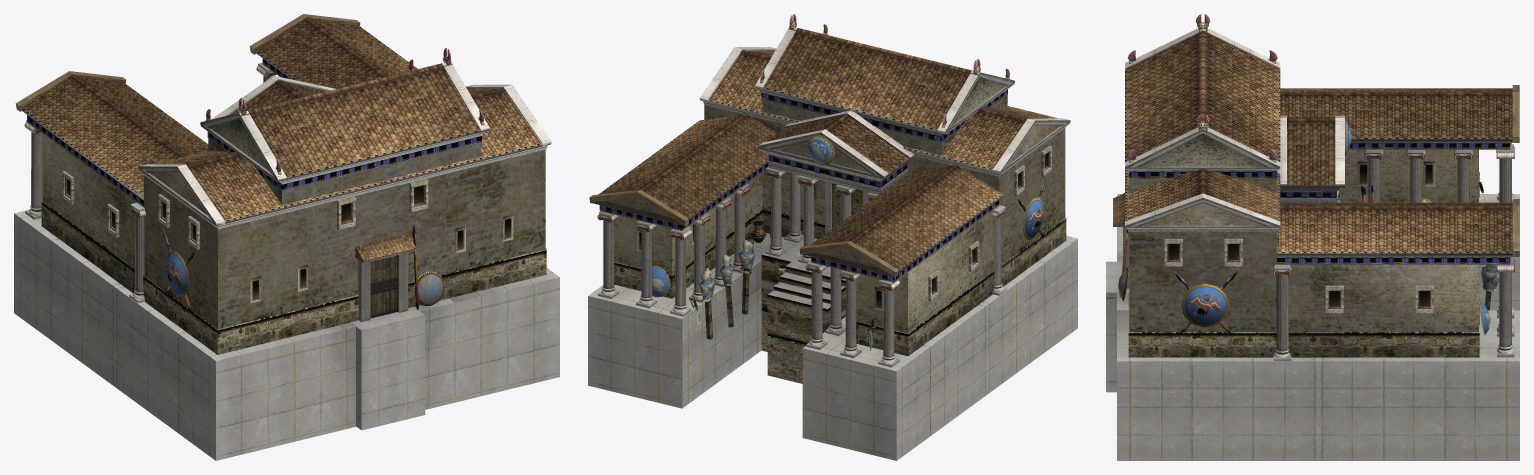
Rendered from barracks.glb.
3 renders of one model, left to right at view 1: azimuth 30°, elevation 25°; view 2: azimuth 150°, elevation 25°; view 3: azimuth 270°, elevation 25°, orthographic. The views are drawn at different scales.
Visible parts, largest first — view 1: barracks_part1, barracks_part4, barracks_part0, barracks_part2, barracks_part3; view 2: barracks_part1, barracks_part4, barracks_part0, barracks_part2, barracks_part3, barracks_part5; view 3: barracks_part1, barracks_part4, barracks_part0, barracks_part2, barracks_part3, barracks_part5.
Boxes of the visible parts, x1,y1,x2,y2 form: barracks_part1: [15, 14, 546, 354]; barracks_part4: [14, 62, 559, 460]; barracks_part0: [20, 17, 551, 299]; barracks_part2: [31, 48, 513, 322]; barracks_part3: [165, 250, 444, 305]; barracks_part1: [589, 31, 1066, 383]; barracks_part4: [588, 166, 1077, 460]; barracks_part0: [599, 27, 1070, 363]; barracks_part2: [603, 14, 1051, 357]; barracks_part3: [652, 135, 1043, 297]; barracks_part5: [597, 170, 1005, 290]; barracks_part1: [1113, 33, 1519, 357]; barracks_part4: [1106, 144, 1519, 460]; barracks_part0: [1125, 28, 1513, 358]; barracks_part2: [1121, 14, 1511, 351]; barracks_part3: [1118, 120, 1490, 334]; barracks_part5: [1273, 147, 1514, 275].
Bounding box in the file's own units: 3.87 × 3.34 × 4.
Materials: 6 (6 with a texture image).
